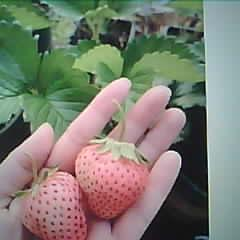straw-ripe: (76, 147, 144, 219), (23, 172, 86, 240)
